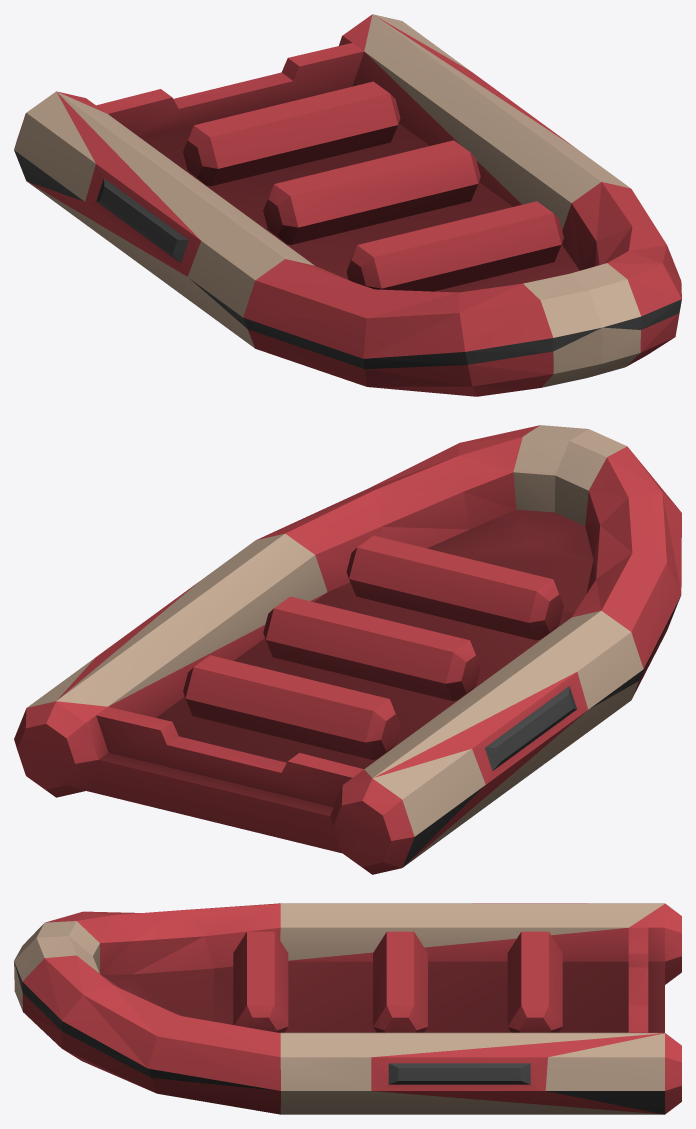
The model's file is boat-life.glb.
3 views of the same model, one above another, from view 1: azimuth 30°, elevation 25°; view 2: azimuth 150°, elevation 25°; view 3: azimuth 270°, elevation 25° (orthographic). The views are drawn at different scales.
Visible parts, largest first — view 1: boat-life; view 2: boat-life; view 3: boat-life.
Boxes of the visible parts, x1,y1,x2,y2 form: boat-life: (14, 14, 681, 396); boat-life: (14, 425, 681, 874); boat-life: (14, 903, 681, 1114).
Size of the model in its own units: 4.34 by 1.4 by 7.45.
